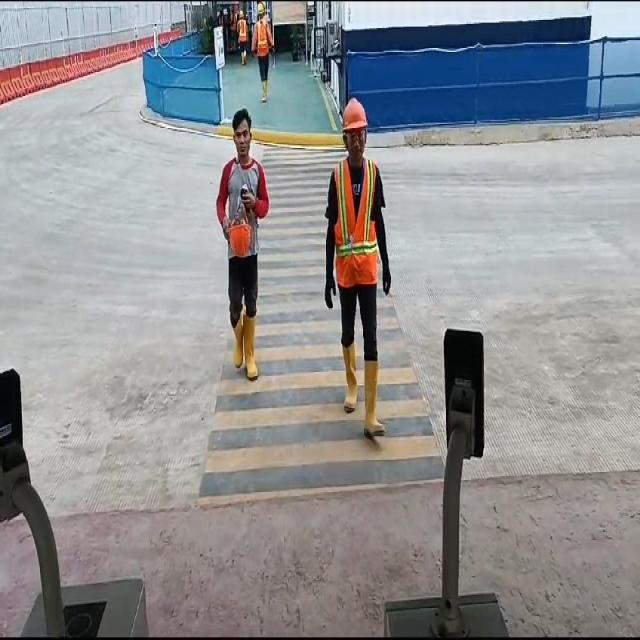gloves: (321, 273, 336, 311)
goggles: (344, 128, 366, 144)
helmet: (341, 99, 368, 133), (258, 0, 267, 12)
safety_vest: (332, 160, 379, 291), (215, 159, 261, 256), (258, 22, 270, 59), (240, 23, 248, 43)
